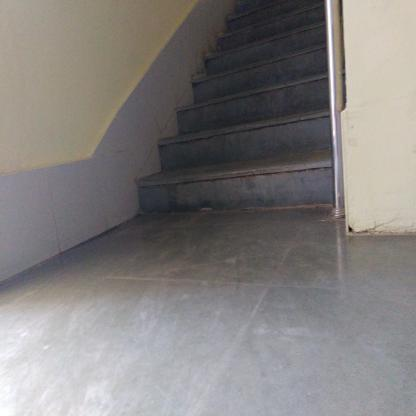stairs: (219, 32, 325, 219)
